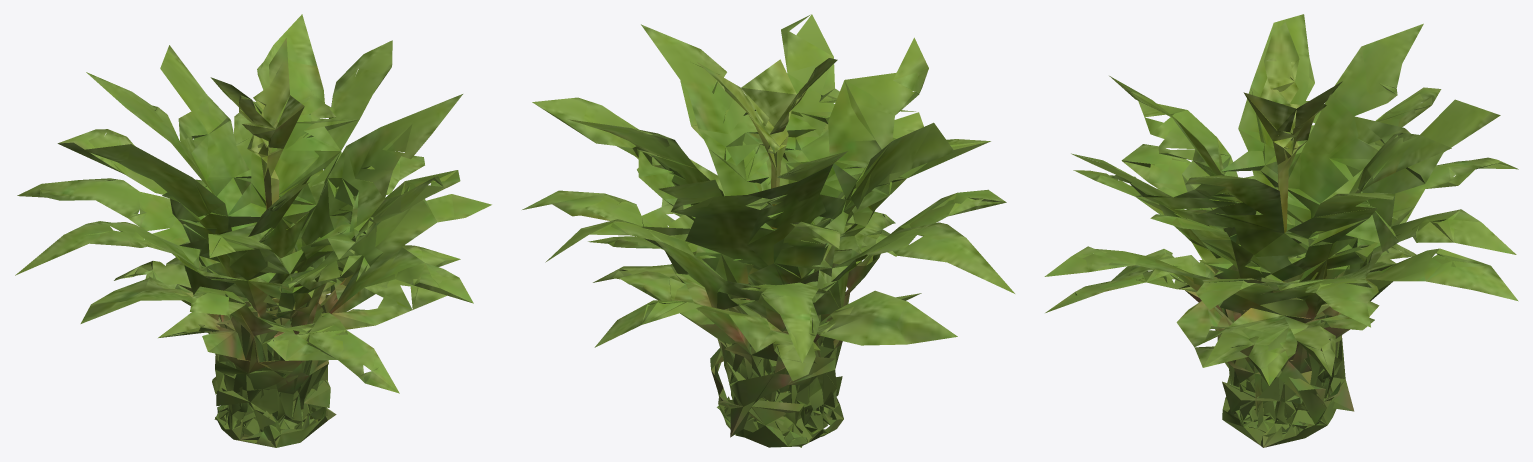
The model's file is fern.glb.
3 renders of one model, left to right at view 1: azimuth 30°, elevation 25°; view 2: azimuth 150°, elevation 25°; view 3: azimuth 270°, elevation 25°, orthographic. The views are drawn at different scales.
Visible parts, largest first — view 1: fern; view 2: fern; view 3: fern.
Part boxes in pixels (x1,y1,x2,y2): fern: [15, 14, 491, 447]; fern: [522, 14, 1014, 447]; fern: [1044, 14, 1518, 447].
Bounding box in the file's own units: 0.7549 × 0.6 × 0.6909.
1 material, 1 textured.
